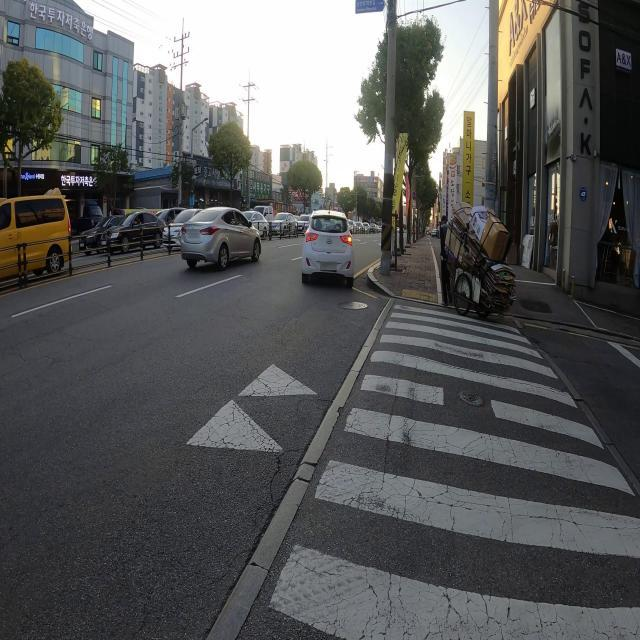crosswalk: (253, 298, 638, 638)
